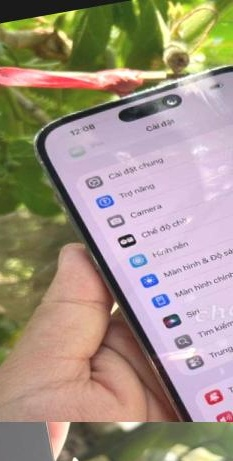scratch: (22, 89, 145, 139)
